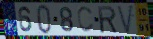0: (36, 4, 53, 35)
6: (18, 5, 34, 33)
8: (59, 6, 75, 33)
C: (76, 5, 95, 34)
R: (97, 5, 119, 35)
V: (116, 4, 135, 36)
